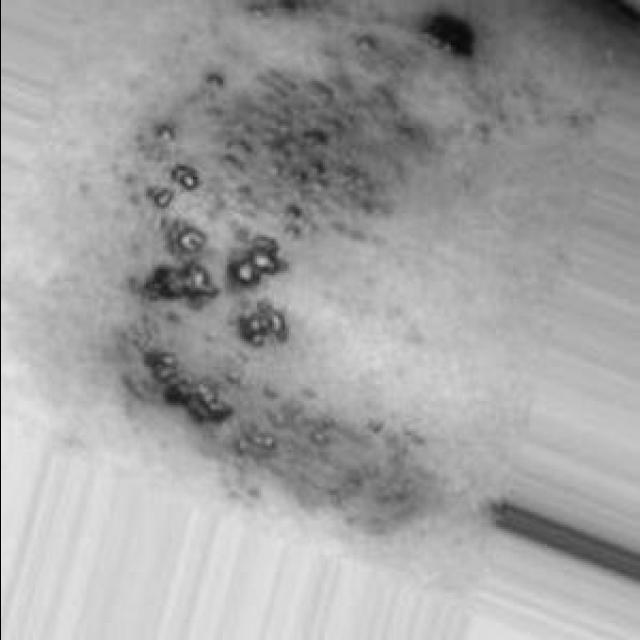Shingles: (123, 44, 438, 533)
